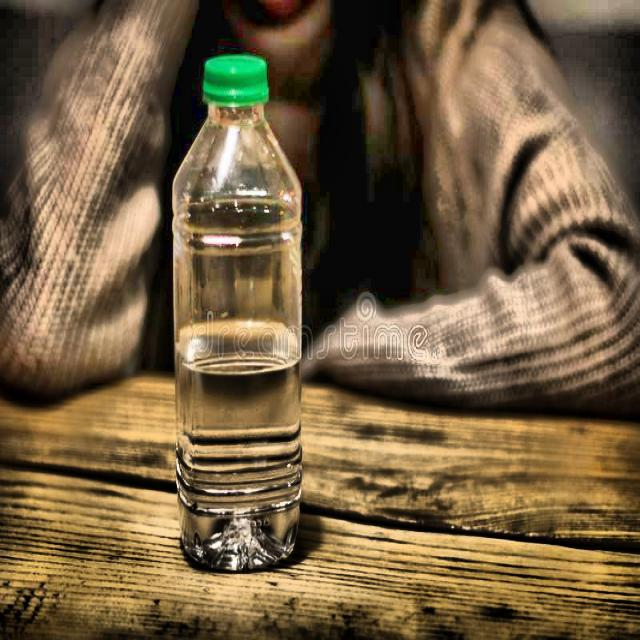Bottles: (166, 40, 313, 578)
